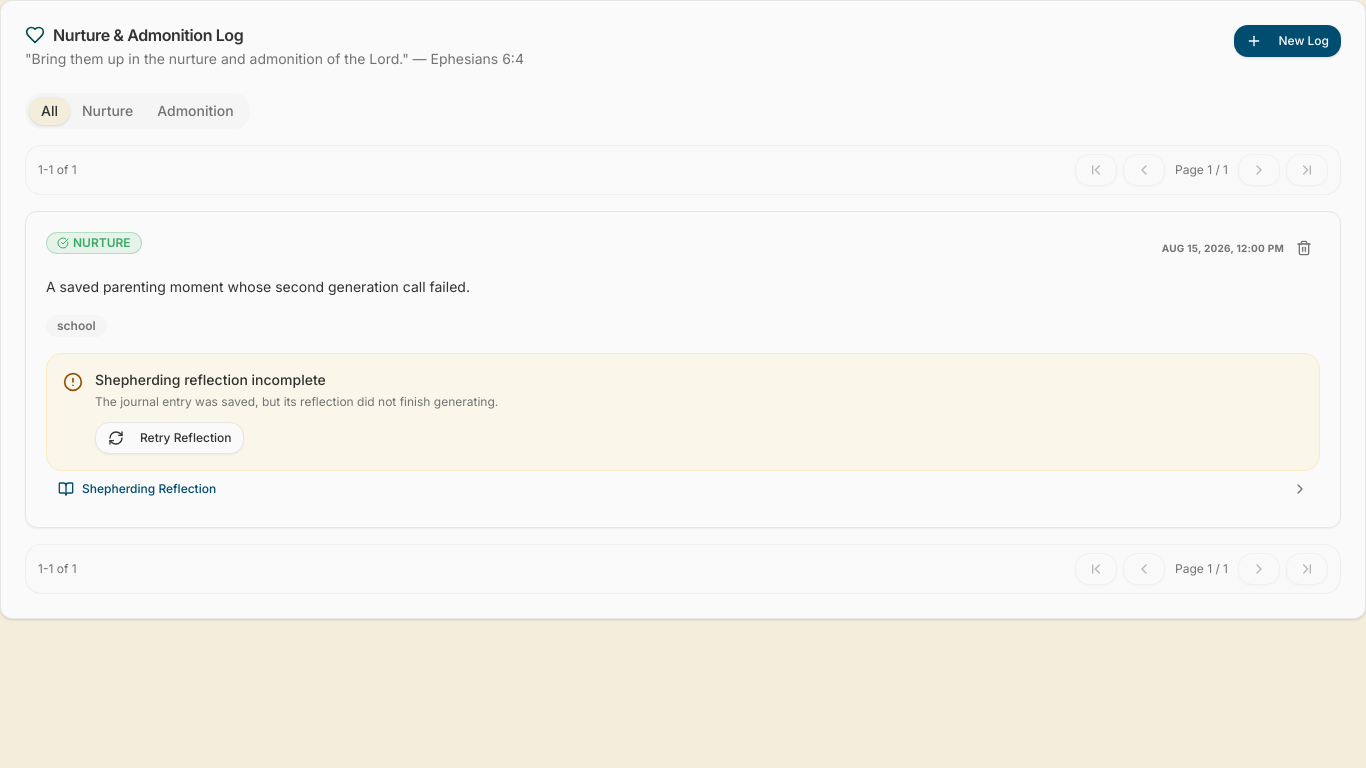
Test case: LogsSection retry recovery › restores the saved partial reflection when retry fails
This screenshot has width=1366, height=768.
Click the button "Retry Reflection": [170, 438] box [95,422,244,454]
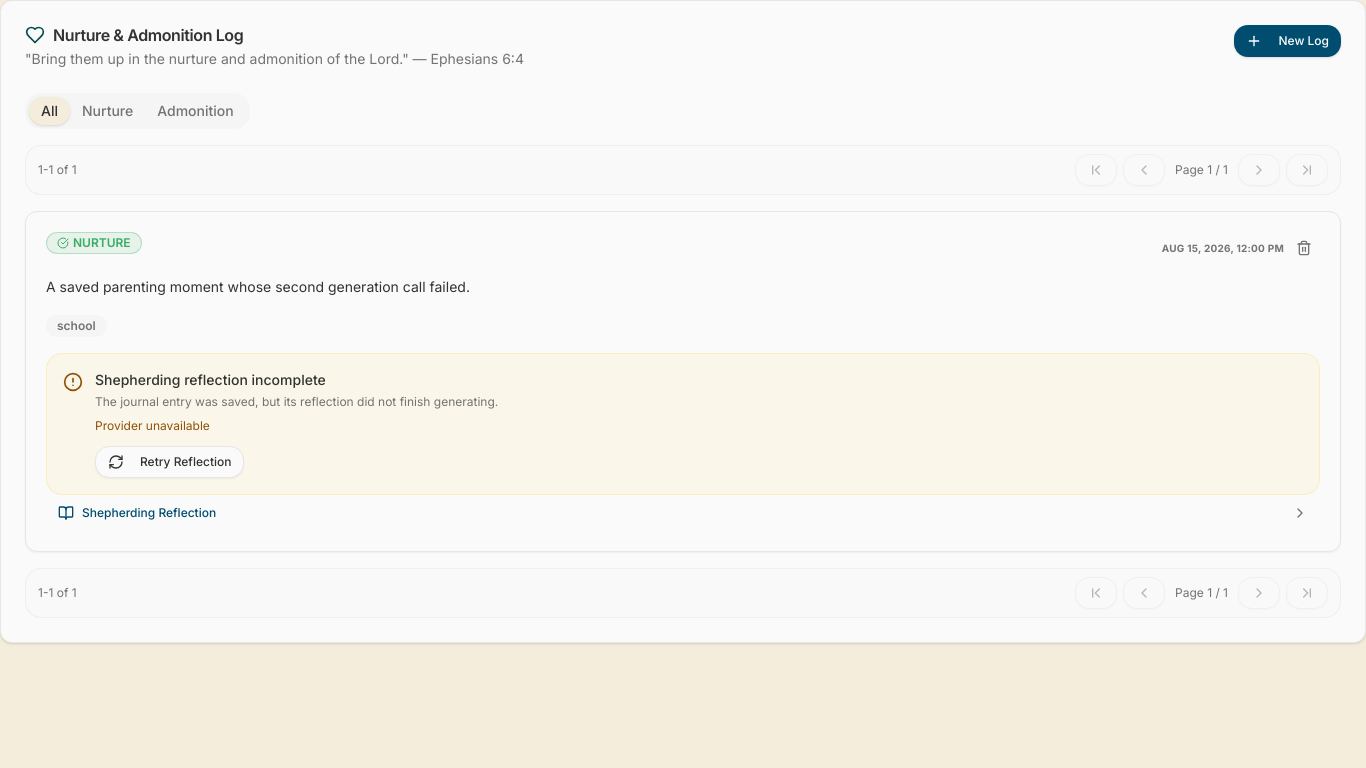
Check: the text "Shepherding reflection" is shown, box [95,371,326,388]
Check: the text "Provider unavailable" is shown, box [95,418,210,433]
